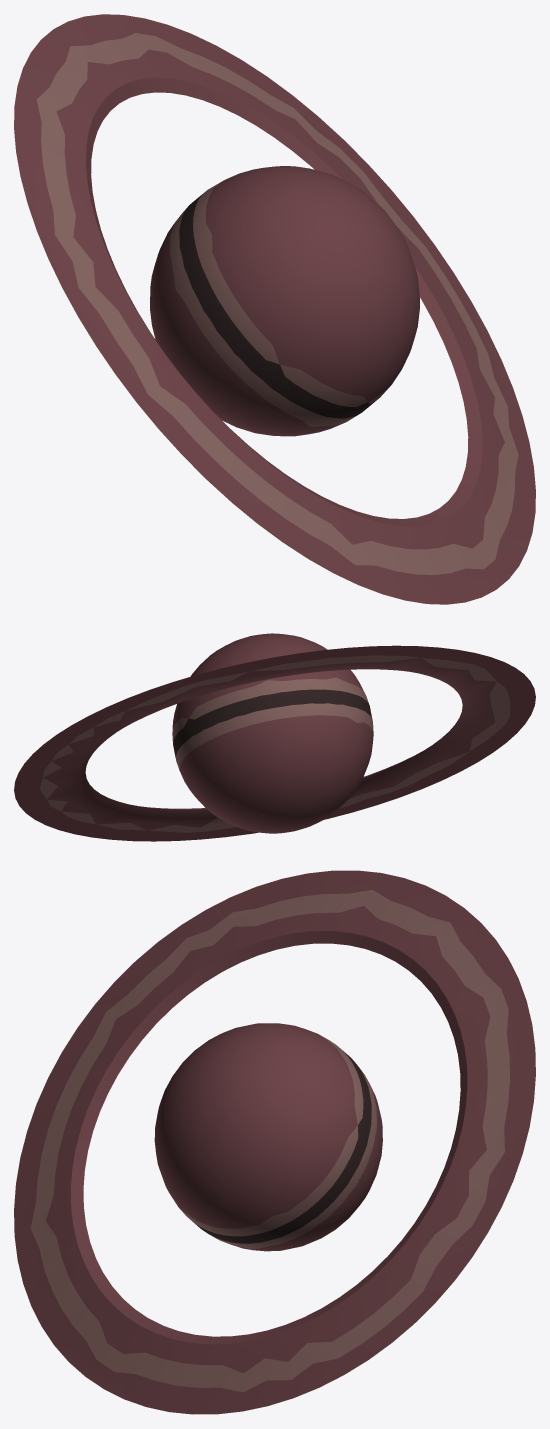
The model's file is quaternius-ultimate-space-planet-10.glb.
3 views of the same model, one above another, from view 1: azimuth 30°, elevation 25°; view 2: azimuth 150°, elevation 25°; view 3: azimuth 270°, elevation 25° (orthographic). The views are drawn at different scales.
Parts seen in each view (by area): view 1: Planet_10; view 2: Planet_10; view 3: Planet_10.
Boxes of the visible parts, x1,y1,x2,y2 form: Planet_10: [14, 14, 535, 604]; Planet_10: [14, 633, 535, 841]; Planet_10: [14, 870, 535, 1414].
Bounding box in the file's own units: 5.74 × 4.68 × 5.74.
Materials: 1 (1 with a texture image).
